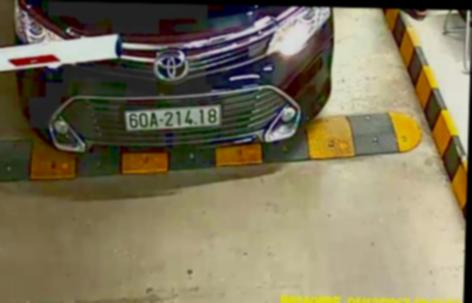License_Plate: (123, 103, 221, 131)
